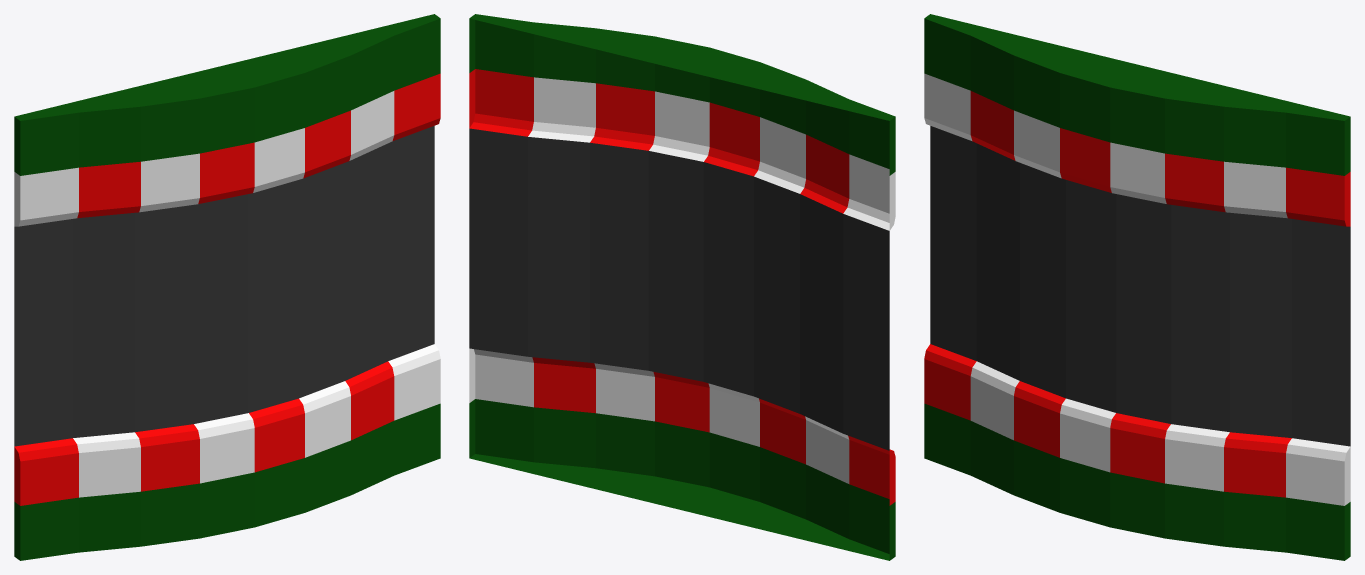
Rendered from Bump.obj.
3 renders of one model, left to right at view 1: azimuth 30°, elevation 25°; view 2: azimuth 150°, elevation 25°; view 3: azimuth 330°, elevation 25°, orthographic.
Visible parts, largest first — view 1: Plane; view 2: Plane; view 3: Plane.
Boxes of the visible parts, bbox=[...] form: Plane: bbox=[14, 14, 440, 560]; Plane: bbox=[469, 14, 895, 560]; Plane: bbox=[924, 14, 1350, 560].
Size of the model in its own units: 2 by 2 by 0.25.
